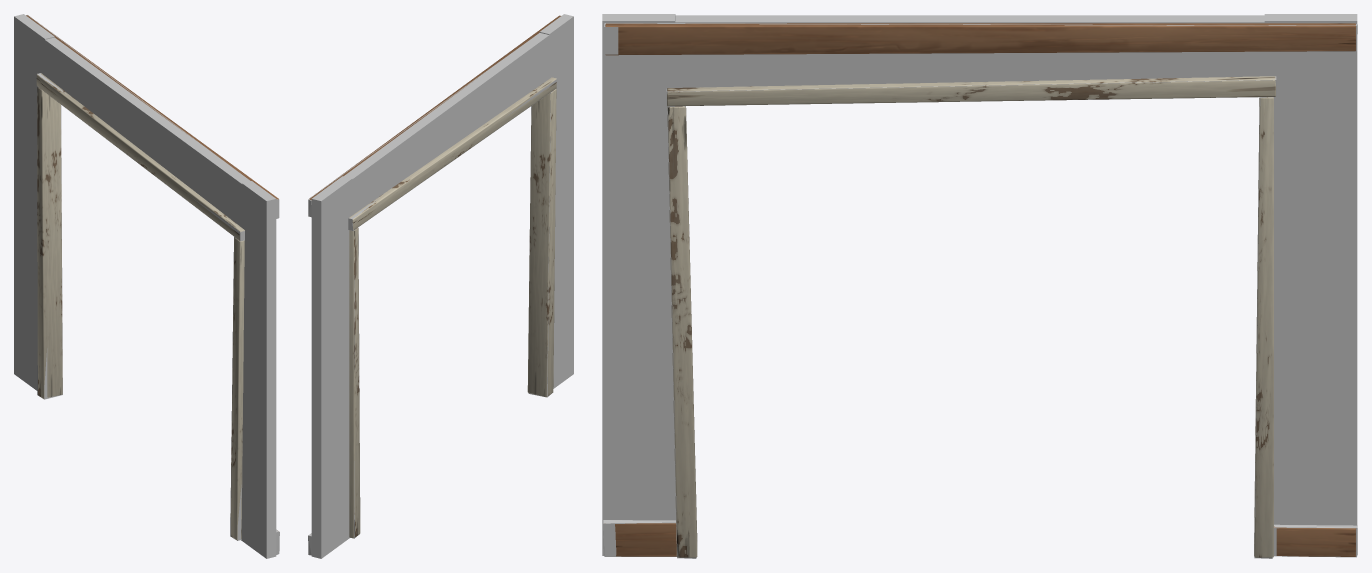
Rendered from SM_Hangar01WD_3.fbx.
3 renders of one model, left to right at view 1: azimuth 30°, elevation 25°; view 2: azimuth 150°, elevation 25°; view 3: azimuth 270°, elevation 25°, orthographic. The views are drawn at different scales.
Visible parts, largest first — view 1: SM_Hangar01WD_3_ConvexHulls, SM_Hangar01WD_3; view 2: SM_Hangar01WD_3_ConvexHulls, SM_Hangar01WD_3; view 3: SM_Hangar01WD_3_ConvexHulls, SM_Hangar01WD_3.
Boxes of the visible parts, left/top/right/bottom form: SM_Hangar01WD_3_ConvexHulls: left=14, top=14, right=279, bottom=558; SM_Hangar01WD_3: left=26, top=15, right=278, bottom=540; SM_Hangar01WD_3_ConvexHulls: left=308, top=14, right=573, bottom=558; SM_Hangar01WD_3: left=309, top=15, right=560, bottom=538; SM_Hangar01WD_3_ConvexHulls: left=602, top=14, right=1357, bottom=558; SM_Hangar01WD_3: left=605, top=23, right=1355, bottom=557.
Size of the model in its own units: 20.07 by 451 by 352.
Materials: 4 (3 with a texture image).
